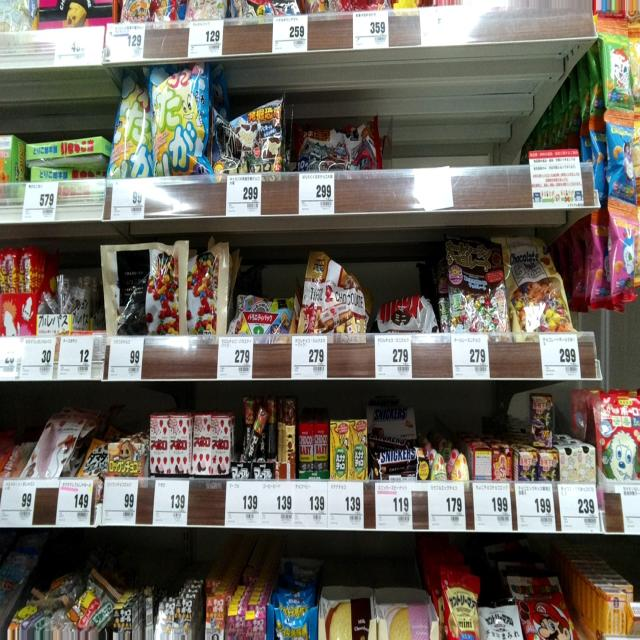objects: (538, 330, 582, 378), (374, 330, 414, 380), (107, 333, 145, 382), (216, 335, 255, 382), (152, 476, 190, 524), (449, 332, 490, 376), (57, 482, 95, 528), (226, 173, 263, 220), (0, 480, 37, 526), (102, 478, 139, 524), (299, 170, 335, 217), (290, 335, 328, 379), (57, 336, 95, 379), (225, 481, 261, 526), (353, 10, 390, 50), (23, 335, 55, 381), (107, 25, 145, 62), (272, 15, 308, 53), (22, 184, 58, 222), (112, 182, 145, 222), (54, 30, 90, 65), (188, 19, 222, 56), (0, 338, 22, 382)
